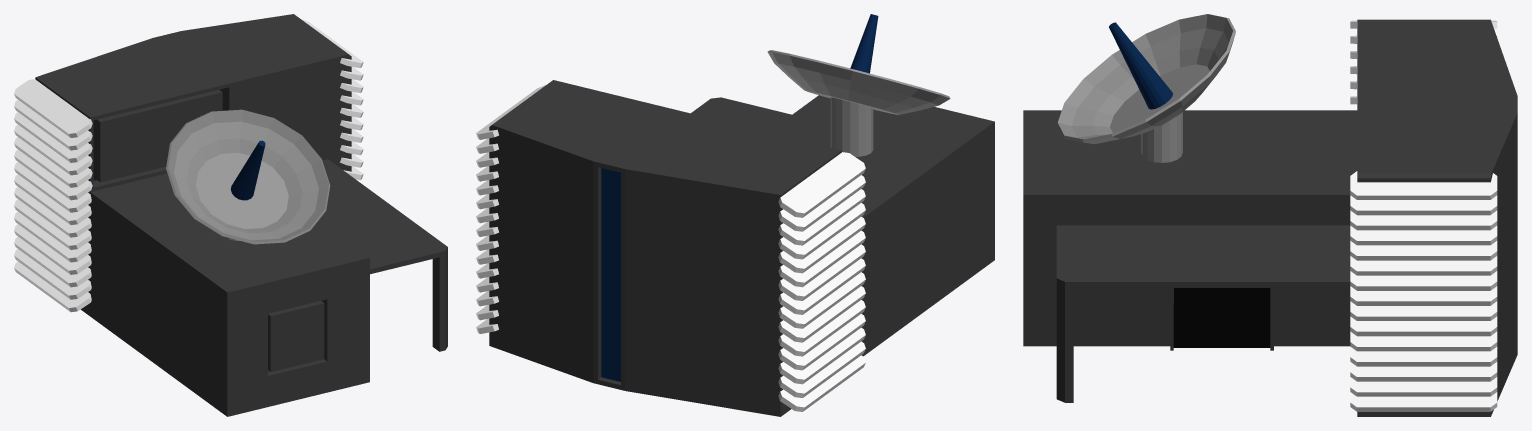
The model's file is NATO Command And Control Center.obj.
3 renders of one model, left to right at view 1: azimuth 30°, elevation 25°; view 2: azimuth 150°, elevation 25°; view 3: azimuth 270°, elevation 25°, orthographic. The views are drawn at different scales.
Visible parts, largest first — view 1: NATO_Command_And_Control_Center_Cube.001; view 2: NATO_Command_And_Control_Center_Cube.001; view 3: NATO_Command_And_Control_Center_Cube.001.
Part boxes in pixels (bbox=[...]): NATO_Command_And_Control_Center_Cube.001: bbox=[14, 14, 447, 416]; NATO_Command_And_Control_Center_Cube.001: bbox=[476, 14, 994, 416]; NATO_Command_And_Control_Center_Cube.001: bbox=[1023, 14, 1517, 416].
Bounding box in the file's own units: 12.4 × 9.29 × 14.8.
